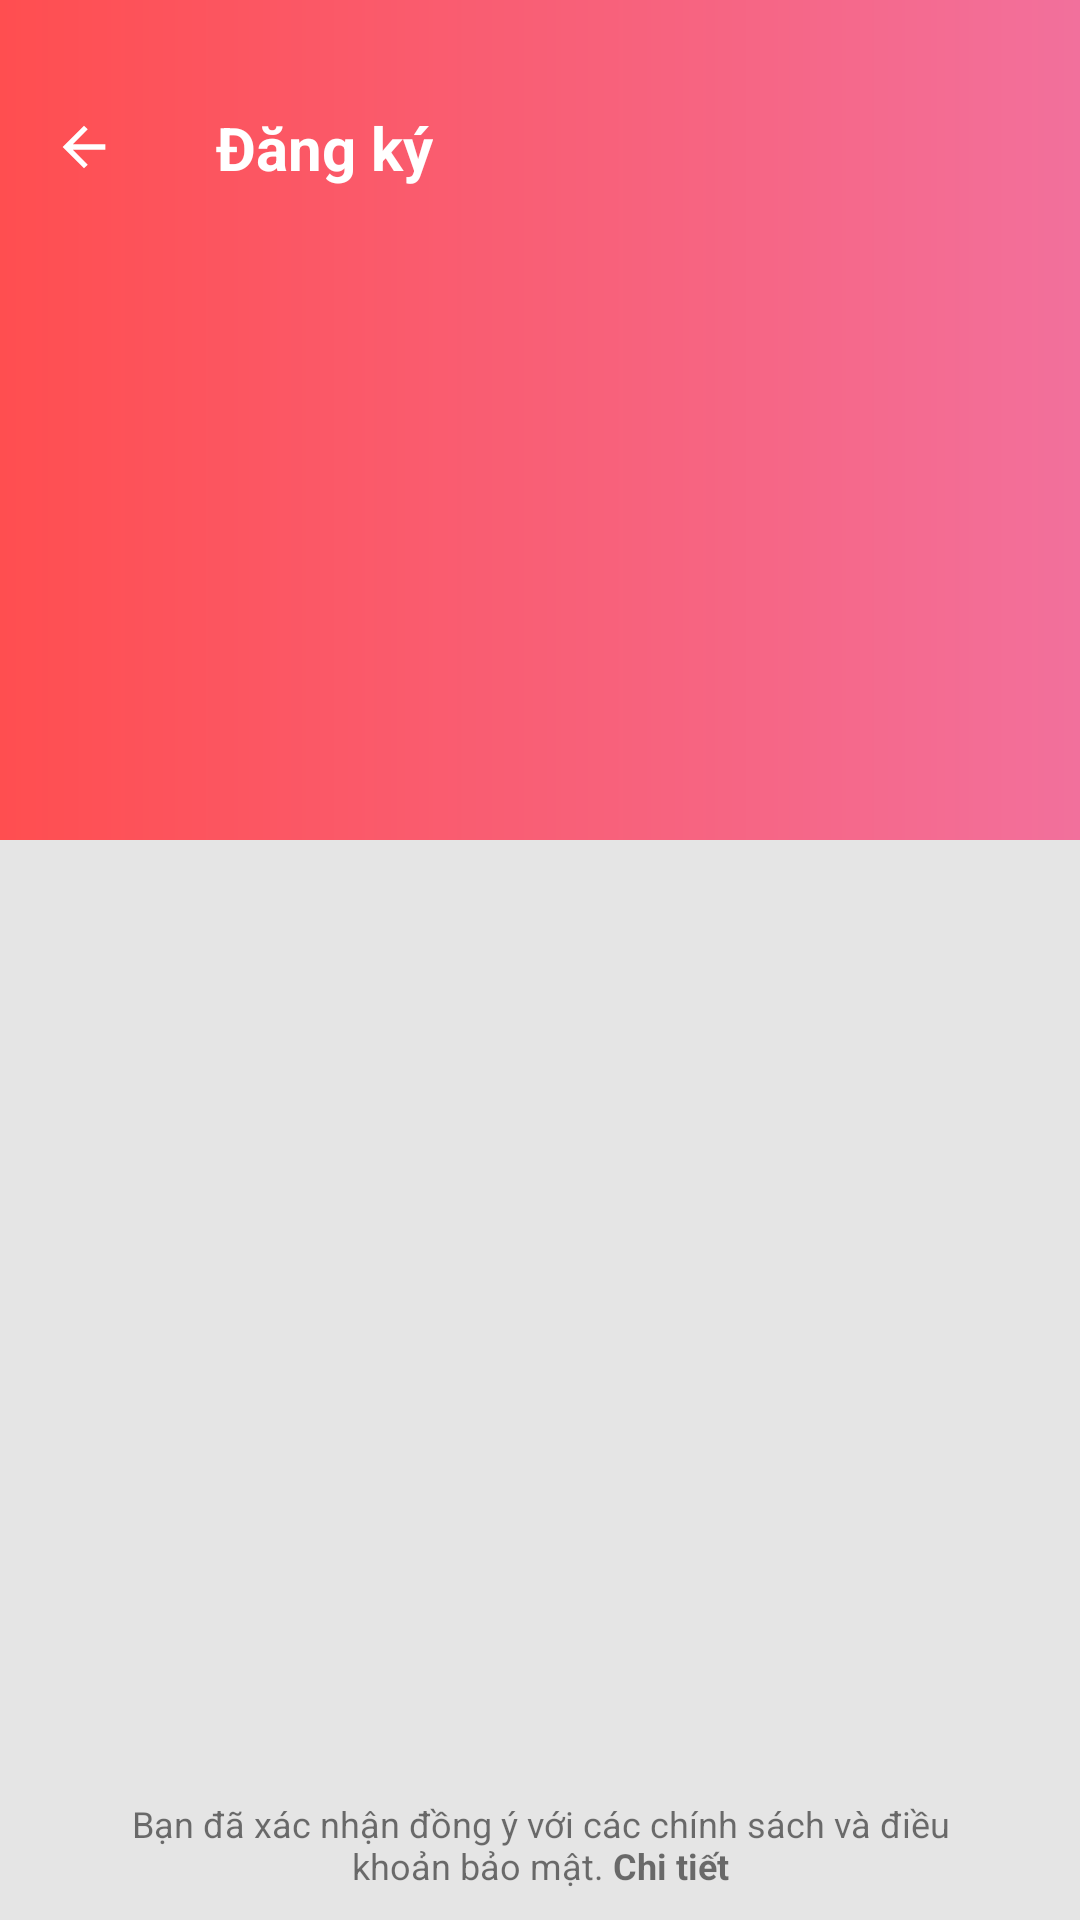

Icon bounding boxes for this 1080x1920 phone screenshot, format (x1, y1, x2, y2):
arrow back: (63, 126, 106, 168)
